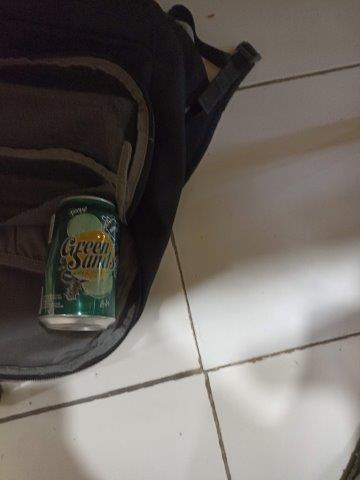kaleng: (37, 195, 121, 331)
